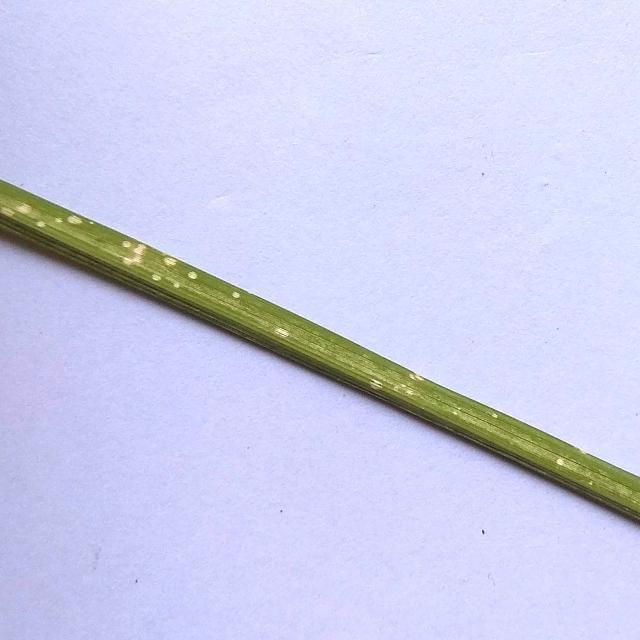Blast: (5, 200, 47, 230), (121, 238, 147, 270), (398, 374, 431, 396), (272, 318, 296, 342), (56, 212, 82, 228), (366, 378, 392, 394), (184, 265, 200, 281), (162, 254, 174, 275), (557, 456, 571, 472), (229, 289, 242, 301)
